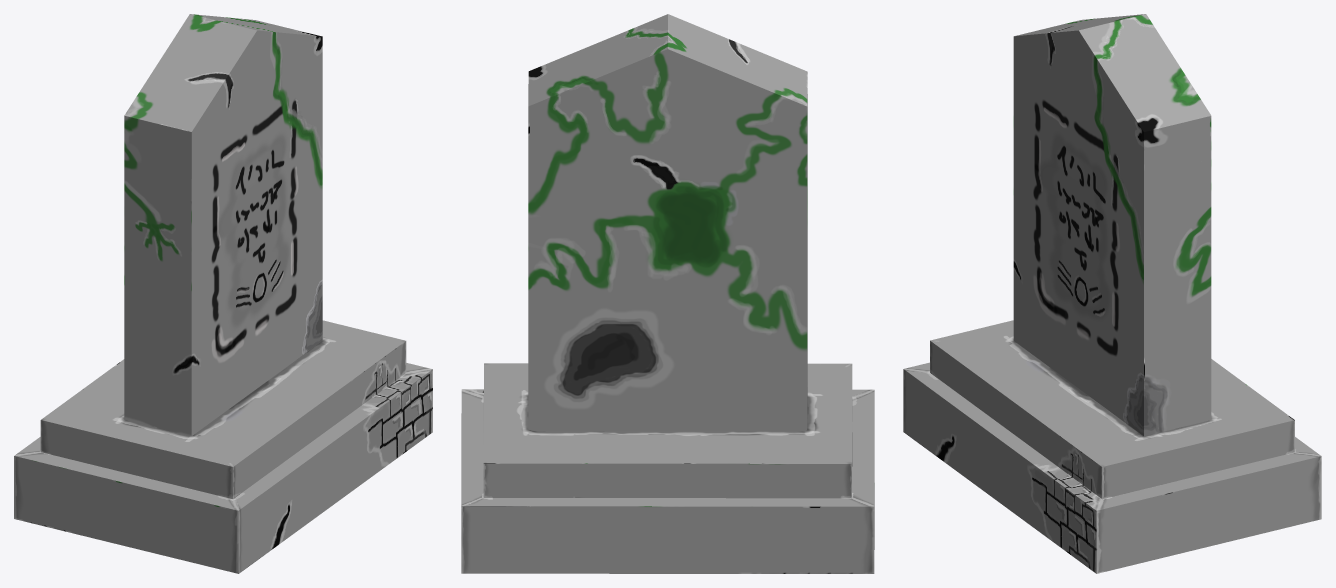
Rendered from grave.obj.
The picture shows the model from 3 angles, left to right: view 1: azimuth 30°, elevation 25°; view 2: azimuth 150°, elevation 25°; view 3: azimuth 270°, elevation 25°; orthographic projection. The views are drawn at different scales.
Visible parts, largest first — view 1: Sepultura_Cube; view 2: Sepultura_Cube; view 3: Sepultura_Cube.
Part boxes in pixels (x1,y1,x2,y2): Sepultura_Cube: (14, 14, 432, 573); Sepultura_Cube: (461, 14, 874, 573); Sepultura_Cube: (903, 14, 1321, 573).
Size of what is drawn, in the model's own units: 4.19 by 4.5 by 3.76.
